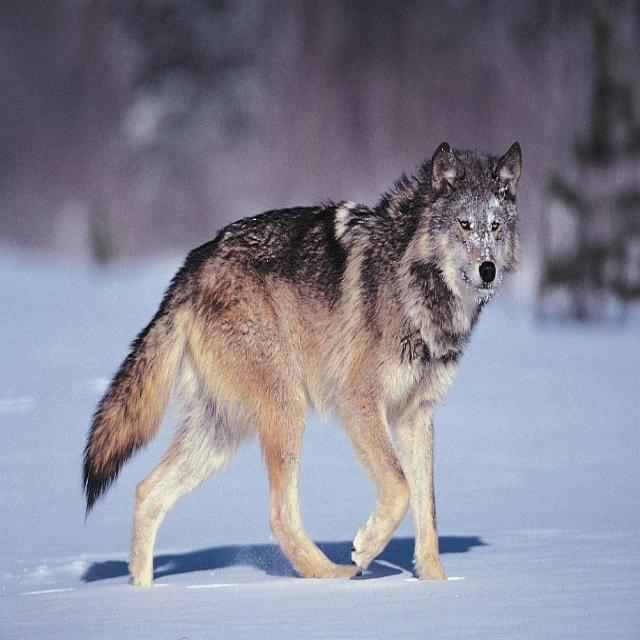Wolf: (81, 138, 522, 587)
